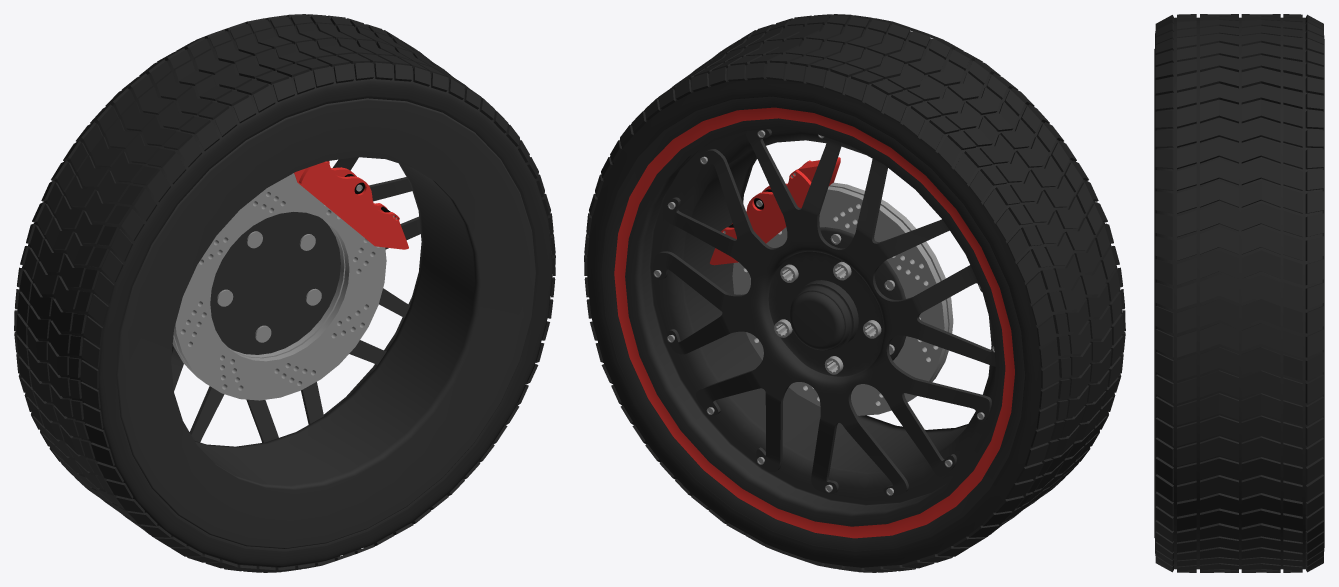
File: rim (1).glb
The picture shows the model from 3 angles, left to right: view 1: azimuth 30°, elevation 25°; view 2: azimuth 150°, elevation 25°; view 3: azimuth 270°, elevation 25°; orthographic projection.
Visible parts, largest first — view 1: Cylinder.001, Cube.003, Cylinder, Cylinder.026, Cylinder.024, Plane.006, Cube.001, Cylinder.025; view 2: Cylinder.001, Cube.003, Plane.006, Cylinder, Cylinder.025, Cylinder.002, Cube.001, Cylinder.024, Cylinder.026; view 3: Cube.003, Cylinder, Cylinder.001.
Boxes of the visible parts, x1,y1,x2,y2 form: Cylinder.001: [116, 98, 535, 548]; Cube.003: [14, 14, 555, 572]; Cylinder: [17, 18, 552, 567]; Cylinder.026: [173, 173, 386, 400]; Cylinder.024: [210, 212, 340, 354]; Plane.006: [171, 157, 420, 442]; Cube.001: [294, 161, 408, 249]; Cylinder.025: [172, 219, 345, 379]; Cylinder.001: [602, 96, 1025, 550]; Cube.003: [584, 14, 1125, 572]; Plane.006: [653, 129, 995, 496]; Cylinder: [587, 18, 1121, 567]; Cylinder.025: [732, 186, 948, 415]; Cylinder.002: [789, 280, 858, 350]; Cube.001: [710, 157, 840, 265]; Cylinder.024: [820, 227, 906, 360]; Cylinder.026: [829, 182, 953, 381]; Cube.003: [1155, 14, 1323, 572]; Cylinder: [1155, 17, 1324, 569]; Cylinder.001: [1154, 49, 1154, 537].
Size of the model in its own units: 15.35 by 15.35 by 4.67.
